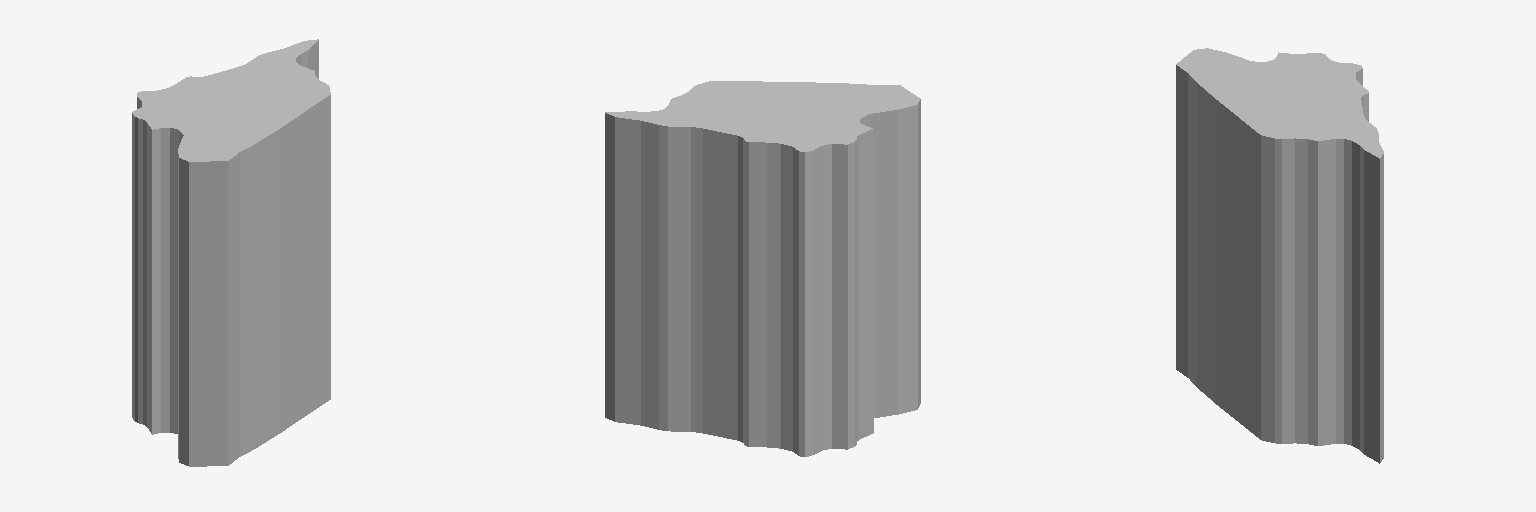
3 views of the same model, side by side, from view 1: azimuth 30°, elevation 25°; view 2: azimuth 150°, elevation 25°; view 3: azimuth 270°, elevation 25° (orthographic).
Visible parts, largest first — view 1: SY.002_CUCurve.1842; view 2: SY.002_CUCurve.1842; view 3: SY.002_CUCurve.1842.
Part boxes in pixels (bbox=[...]): SY.002_CUCurve.1842: bbox=[132, 39, 330, 466]; SY.002_CUCurve.1842: bbox=[605, 81, 920, 456]; SY.002_CUCurve.1842: bbox=[1176, 48, 1383, 463].
Size of the model in its own units: 0.0389 by 0.05 by 0.031.